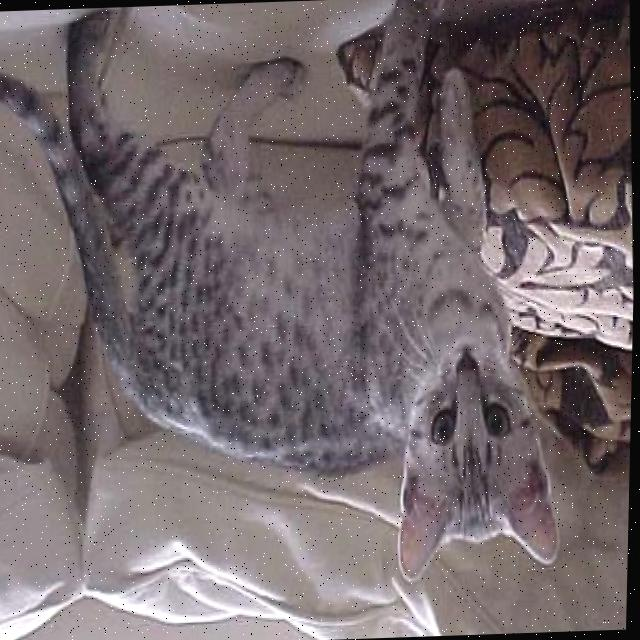Egyptian Mau: (0, 0, 575, 599)
